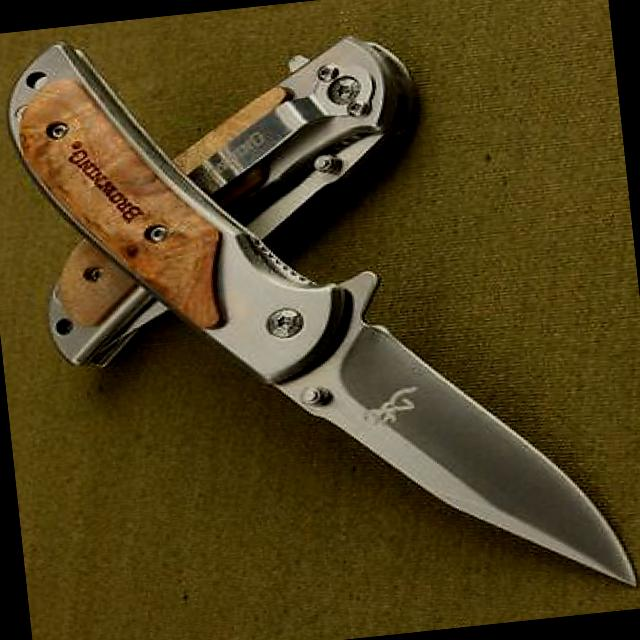knife: (254, 293, 639, 630)
